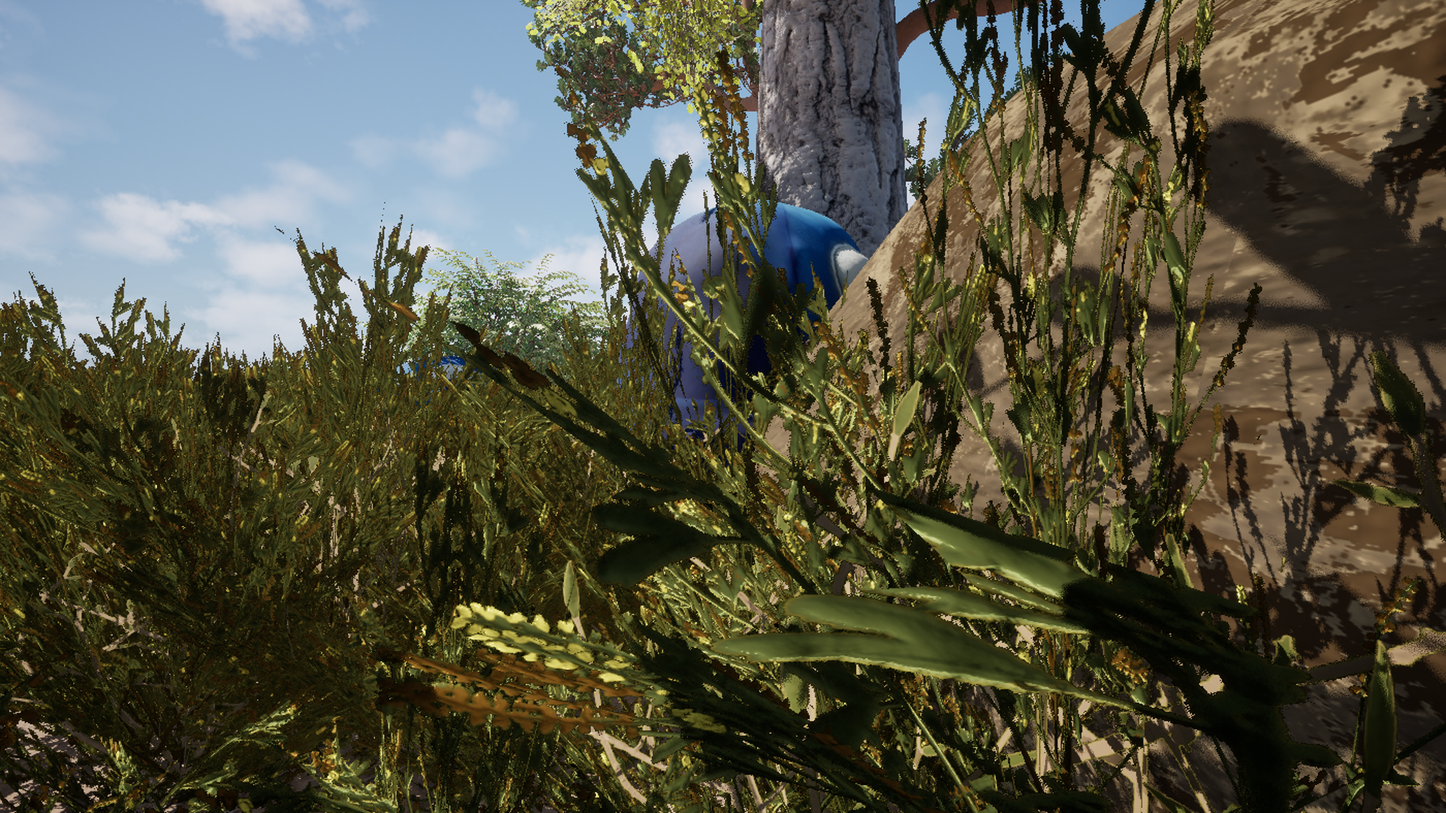Piplup: (321, 0, 1100, 813)
